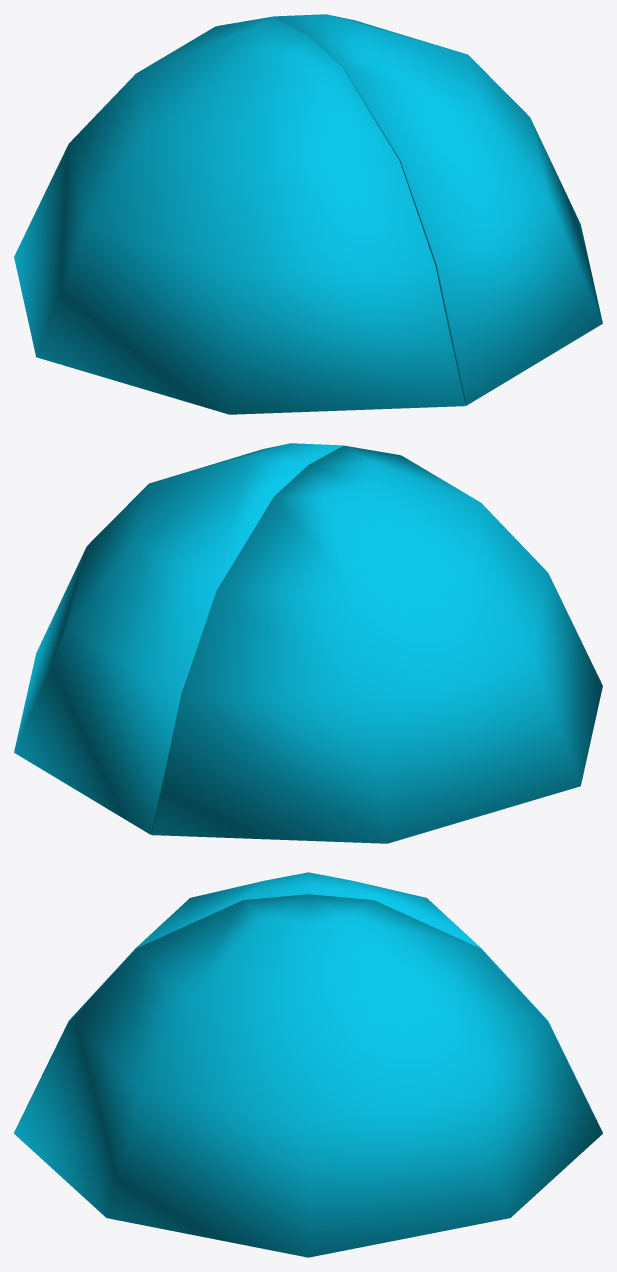
Rendered from Domo de cristal.fbx.
3 renders of one model, top to bottom at view 1: azimuth 30°, elevation 25°; view 2: azimuth 150°, elevation 25°; view 3: azimuth 270°, elevation 25°, orthographic. The views are drawn at different scales.
Visible parts, largest first — view 1: Cristal; view 2: Cristal; view 3: Cristal.
Boxes of the visible parts, x1=… form: Cristal: x1=14, y1=14, x2=602, y2=414; Cristal: x1=14, y1=443, x2=602, y2=843; Cristal: x1=14, y1=872, x2=602, y2=1257.
Size of the model in its own units: 191 by 85.7 by 191.
